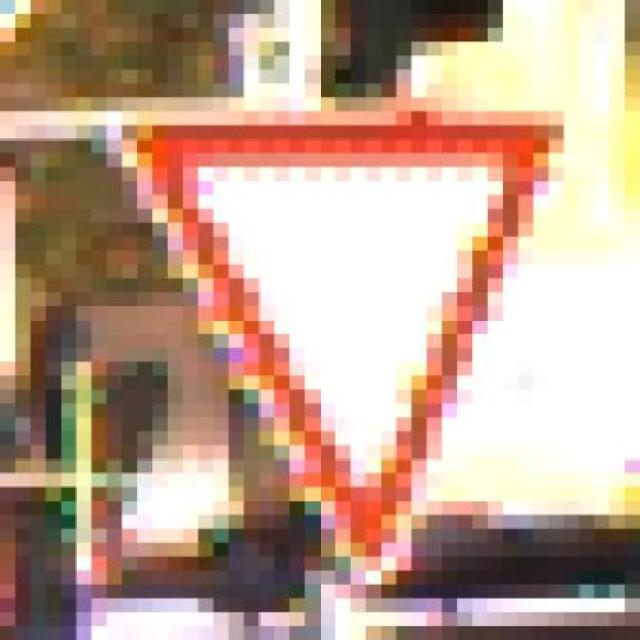Give Way: (92, 97, 626, 598)
